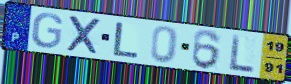0: (149, 25, 180, 65)
6: (191, 28, 222, 71)
G: (30, 12, 65, 50)
L: (111, 21, 141, 60), (229, 33, 256, 74)
X: (64, 14, 103, 57)
